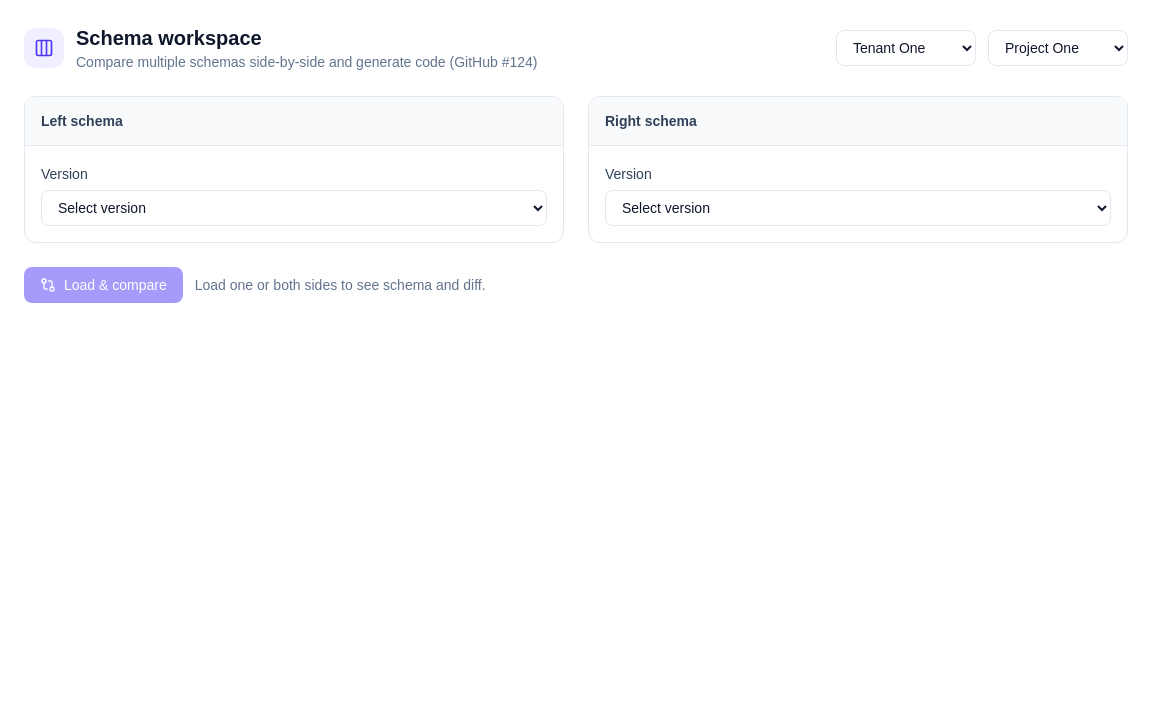
Test: SchemaWorkspacePage › shows diff summary after loading both schemas
Select "v1.0.0" in the dropdown named "left version". click: point(294, 208)
box: [41,190,547,226]
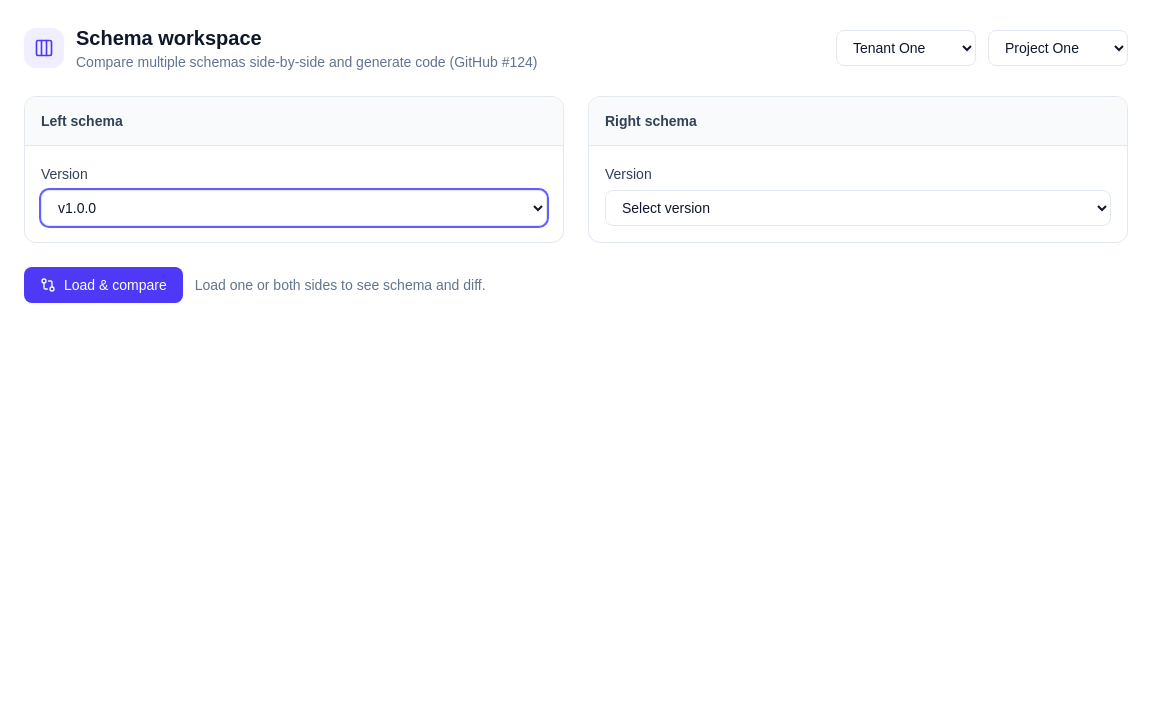
Select "v1.0.0" in the dropdown named "right version". click: point(858, 208)
box: [605,190,1111,226]
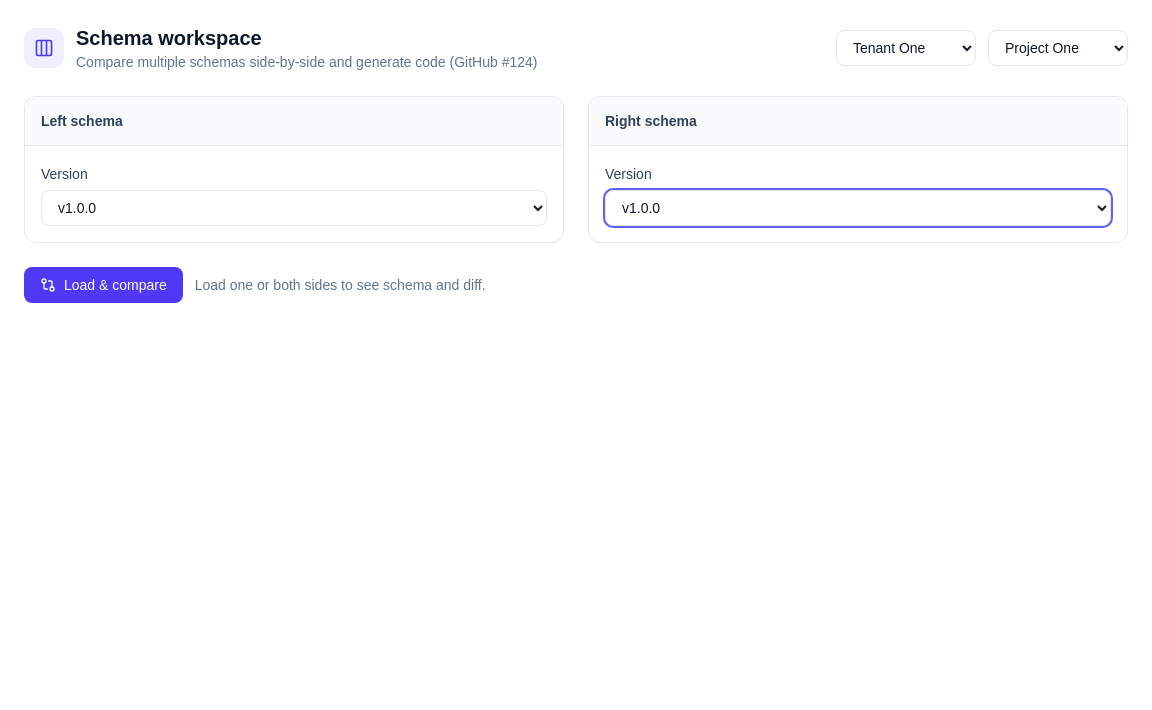
Click the button "Load & compare". click: point(103, 285)
box: [24,267,183,303]
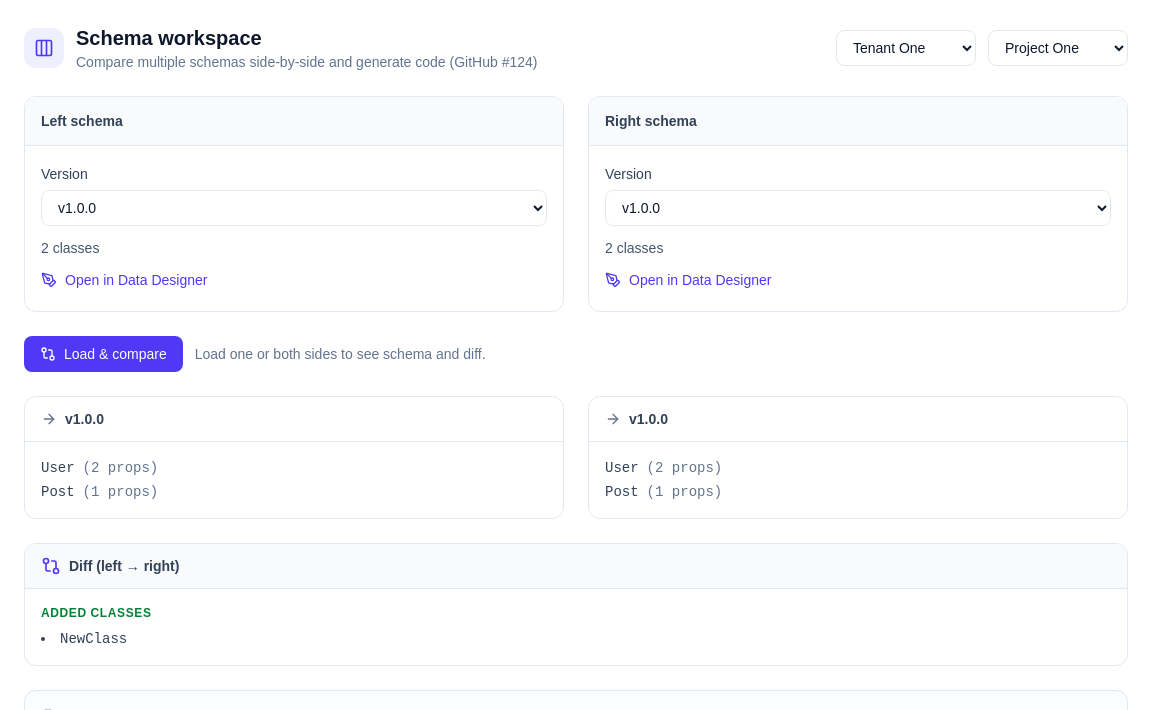
expect the text "Diff (left → right)" is shown: met, box [69,556,179,576]
